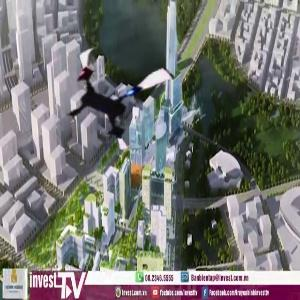drone: (58, 37, 178, 157)
